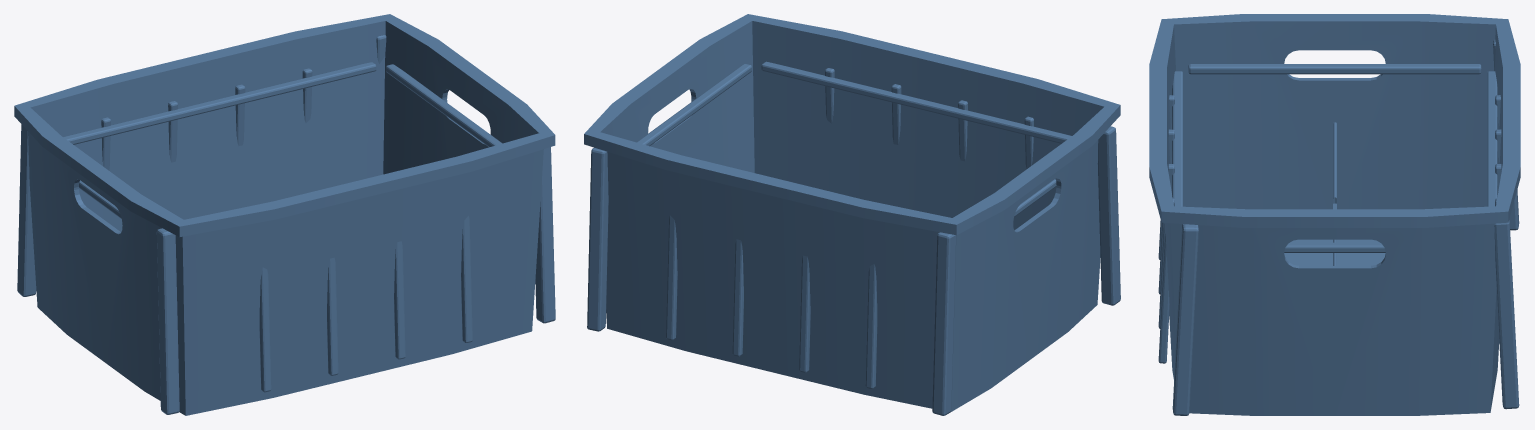
File: tote.glb
3 views of the same model, side by side, from view 1: azimuth 30°, elevation 25°; view 2: azimuth 150°, elevation 25°; view 3: azimuth 270°, elevation 25° (orthographic). The views are drawn at different scales.
Visible parts, largest first — view 1: tote, tote_ribs, tote_ledge; view 2: tote, tote_ribs, tote_ledge; view 3: tote, tote_ribs, tote_ledge, tote_divider.
Part boxes in pixels (x1,y1,x2,y2): tote: (14, 14, 555, 415); tote_ribs: (17, 35, 555, 414); tote_ledge: (63, 62, 502, 218); tote: (584, 14, 1120, 411); tote_ribs: (587, 68, 1120, 415); tote_ledge: (636, 61, 1071, 216); tote: (1149, 14, 1520, 415); tote_ribs: (1158, 39, 1519, 415); tote_ledge: (1172, 64, 1497, 252); tote_divider: (1333, 122, 1336, 265).
Bounding box in the file's own units: 0.354 × 0.17 × 0.274.
